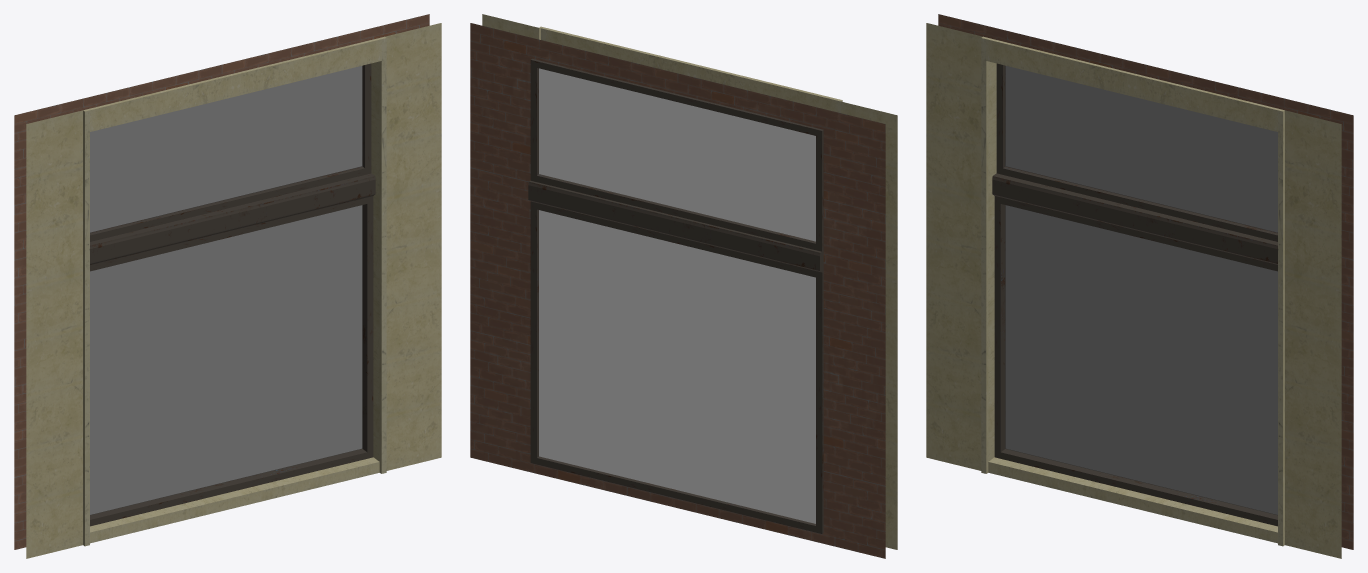
File: Marble_ShopWindow.gltf
3 renders of one model, left to right at view 1: azimuth 30°, elevation 25°; view 2: azimuth 150°, elevation 25°; view 3: azimuth 330°, elevation 25°, orthographic.
Parts seen in each view (by area): view 1: Marble_ShopWindow; view 2: Marble_ShopWindow; view 3: Marble_ShopWindow.
Part boxes in pixels (bbox=[...]): Marble_ShopWindow: bbox=[14, 14, 441, 558]; Marble_ShopWindow: bbox=[470, 14, 897, 558]; Marble_ShopWindow: bbox=[926, 14, 1353, 558].
Size of the model in its own units: 4 by 4 by 0.2933.
Materials: 5 (3 with a texture image).
